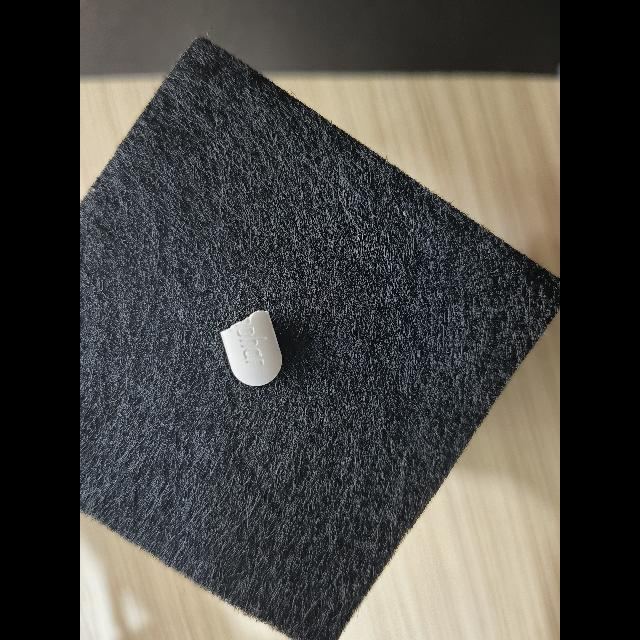Chipped Pill: (220, 310, 282, 386)
